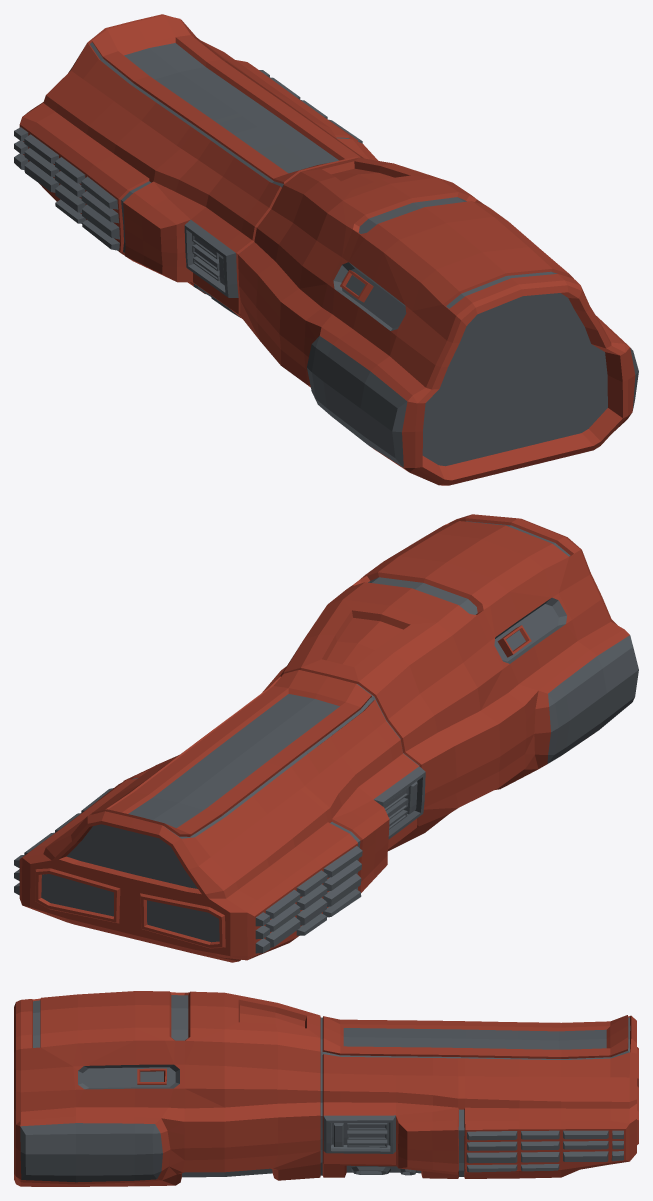
The model's file is Dropship_03__Red.fbx.
3 renders of one model, top to bottom at view 1: azimuth 30°, elevation 25°; view 2: azimuth 150°, elevation 25°; view 3: azimuth 270°, elevation 25°, orthographic. The views are drawn at different scales.
Parts seen in each view (by area): view 1: Dropship_03__Red; view 2: Dropship_03__Red; view 3: Dropship_03__Red.
Boxes of the visible parts, x1=… form: Dropship_03__Red: x1=14, y1=14, x2=638, y2=485; Dropship_03__Red: x1=14, y1=514, x2=638, y2=962; Dropship_03__Red: x1=14, y1=991, x2=638, y2=1186.
Bounding box in the file's own units: 395 × 287 × 1064.
Materials: 2 (2 with a texture image).
